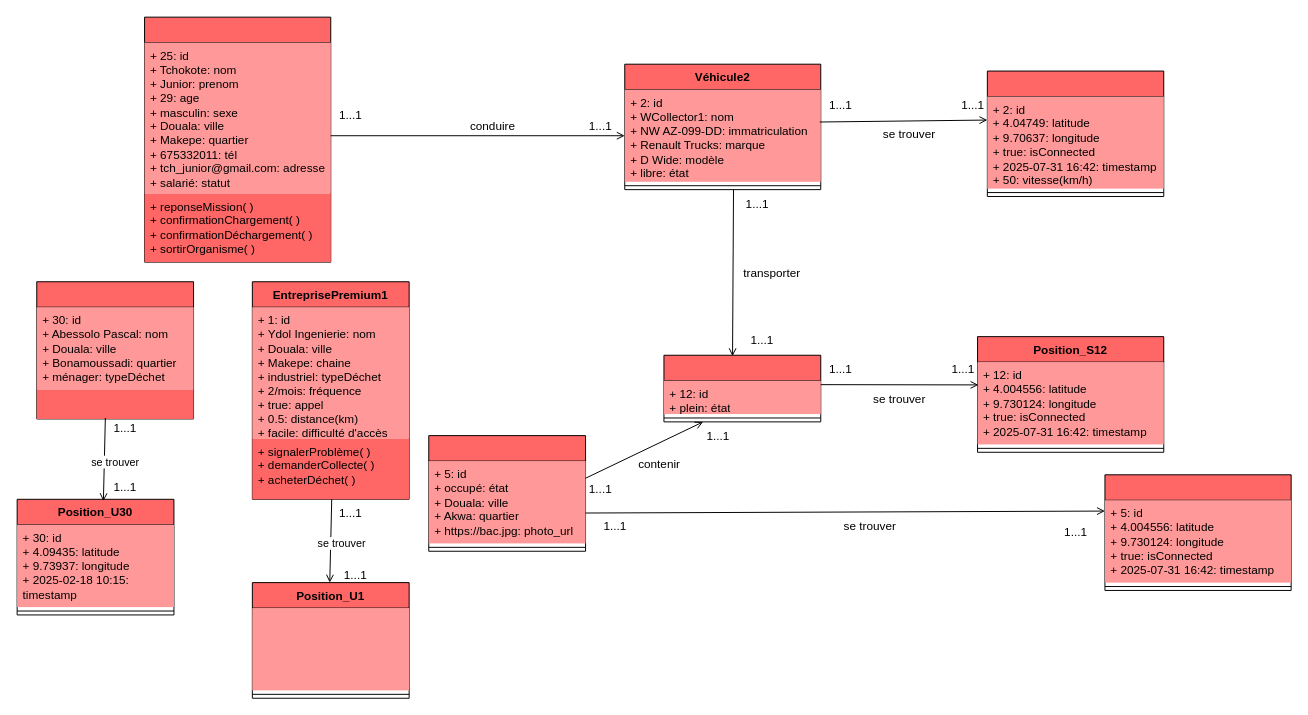
Some shapes in this 1308 by 715 pixel diagram are drawn without their labels. The box of each missing label's shape, as (x1, y1, x2, y2) in pixels:
+ 1: id + 4.02381: latitude + 9.70096: longitude + 2025-06-10 18:50: timestamp: (252, 608, 409, 690)
+ signalerProblème( ): (36, 389, 193, 418)
Bac5: (428, 435, 586, 551)
Chauffeur25: (144, 16, 331, 262)
Citoyen30: (36, 281, 194, 419)
Position_B5: (1104, 474, 1291, 590)
Position_V2: (986, 70, 1164, 196)
Sac poubelle12: (663, 354, 821, 422)
